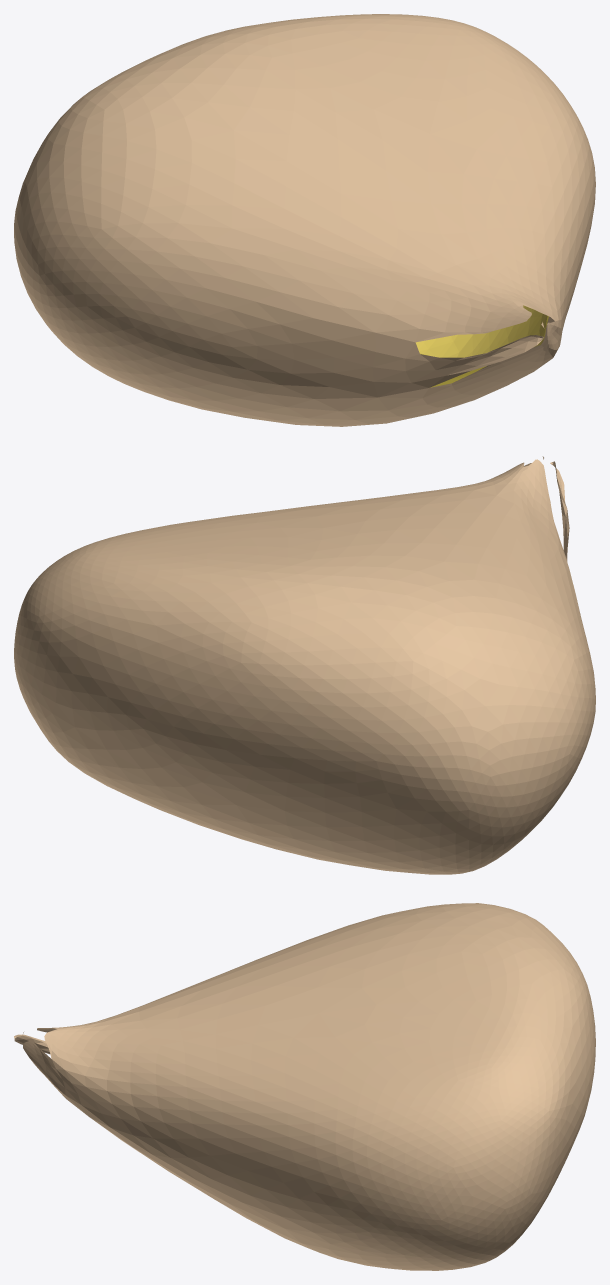
File: vescica.glb
The picture shows the model from 3 angles, top to bottom: view 1: azimuth 30°, elevation 25°; view 2: azimuth 150°, elevation 25°; view 3: azimuth 270°, elevation 25°; orthographic projection. The views are drawn at different scales.
Parts seen in each view (by area): view 1: urinary bladder, urine; view 2: urinary bladder; view 3: urinary bladder.
Boxes of the visible parts, x1,y1,x2,y2 form: urinary bladder: (14, 14, 595, 426); urine: (415, 305, 548, 387); urinary bladder: (14, 456, 595, 874); urinary bladder: (14, 903, 595, 1270).
Size of the model in its own units: 65.76 by 36.94 by 71.54.
